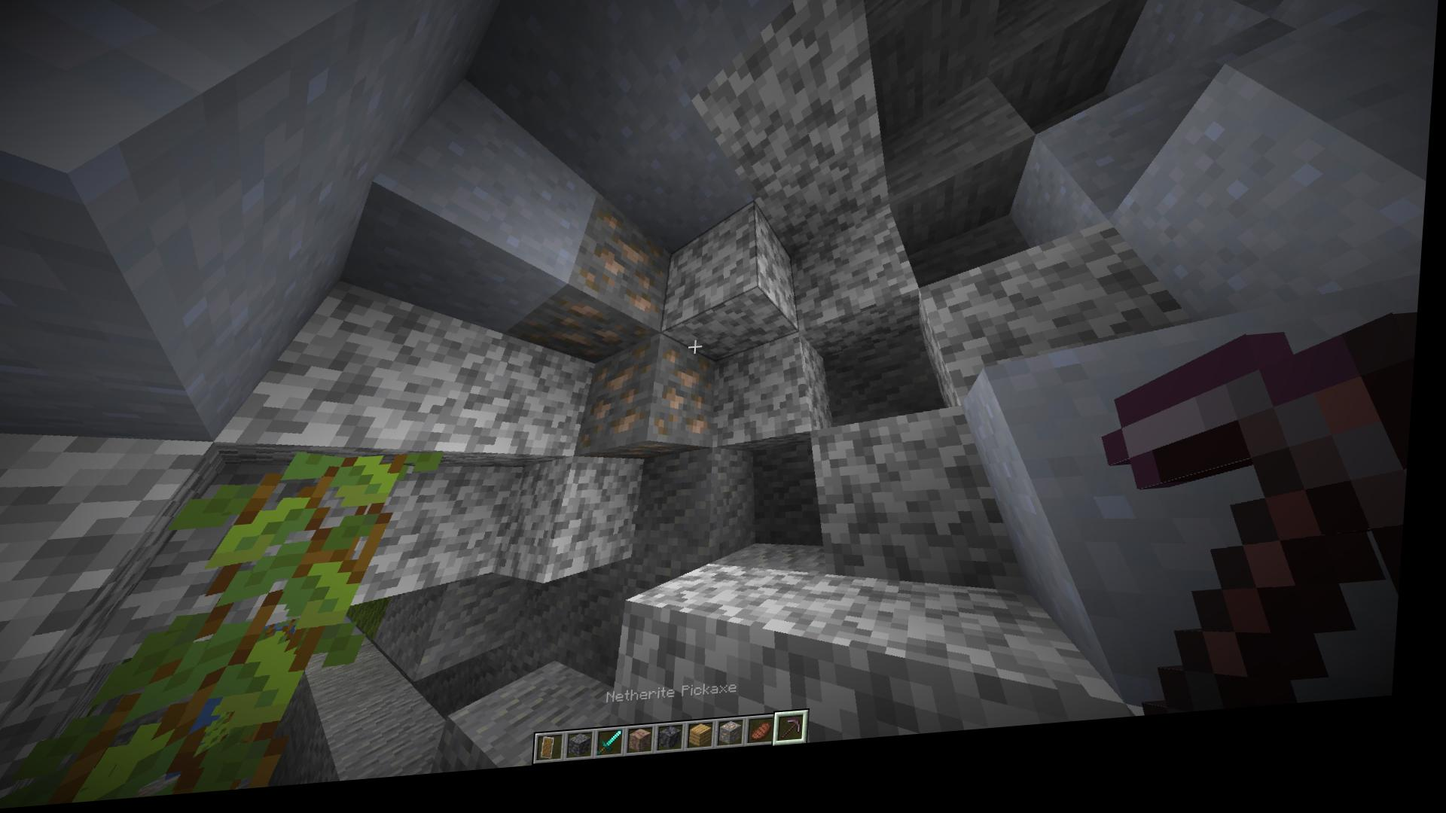iron ore: (581, 206, 683, 334), (580, 358, 665, 459), (529, 300, 652, 369), (661, 350, 728, 456)
